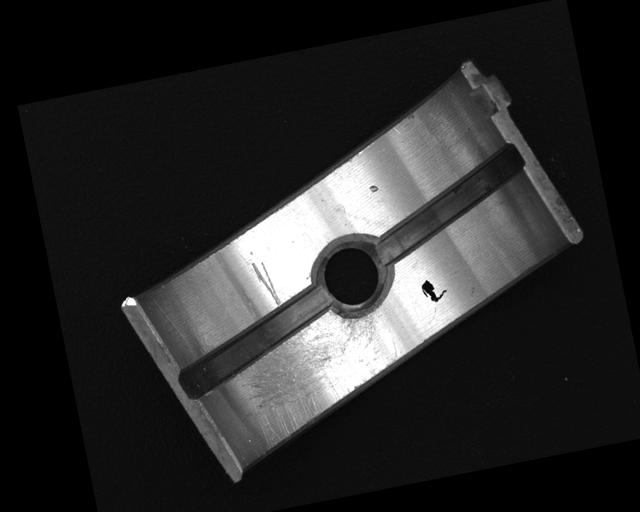blot: (419, 275, 449, 304)
bruise: (367, 183, 380, 194)
gap: (357, 142, 538, 269), (167, 284, 341, 400)
hole: (307, 231, 399, 325)
nick: (249, 256, 281, 311)
scratch: (236, 307, 405, 452)
